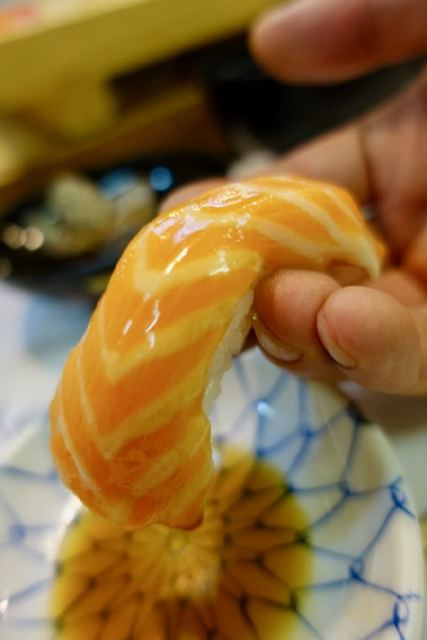salmon: (51, 170, 392, 536)
